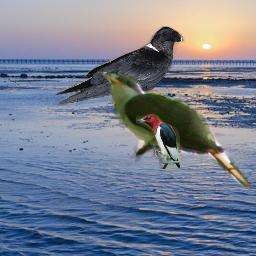Crow: (52, 26, 186, 121)
Cuckoo: (100, 72, 254, 189)
Woodpecker: (136, 114, 180, 169)
